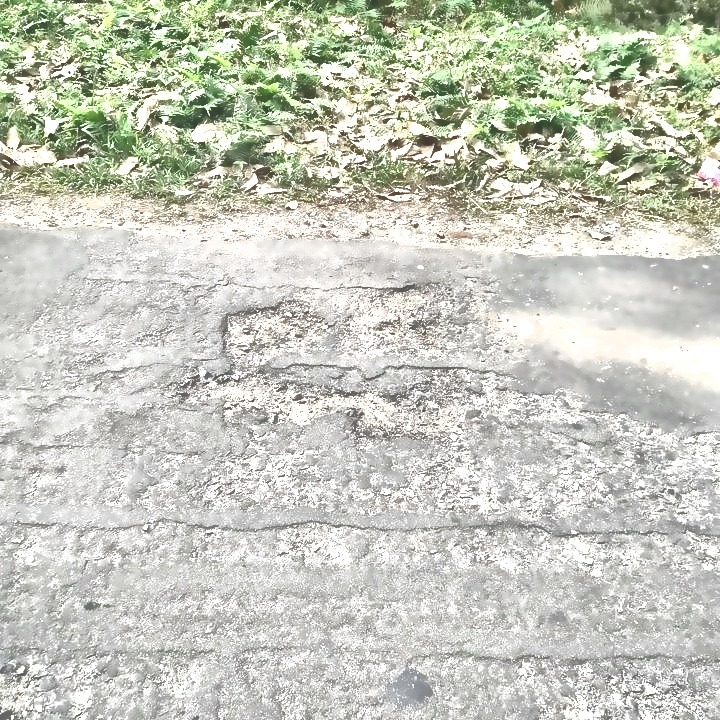pothole: (173, 278, 486, 445)
